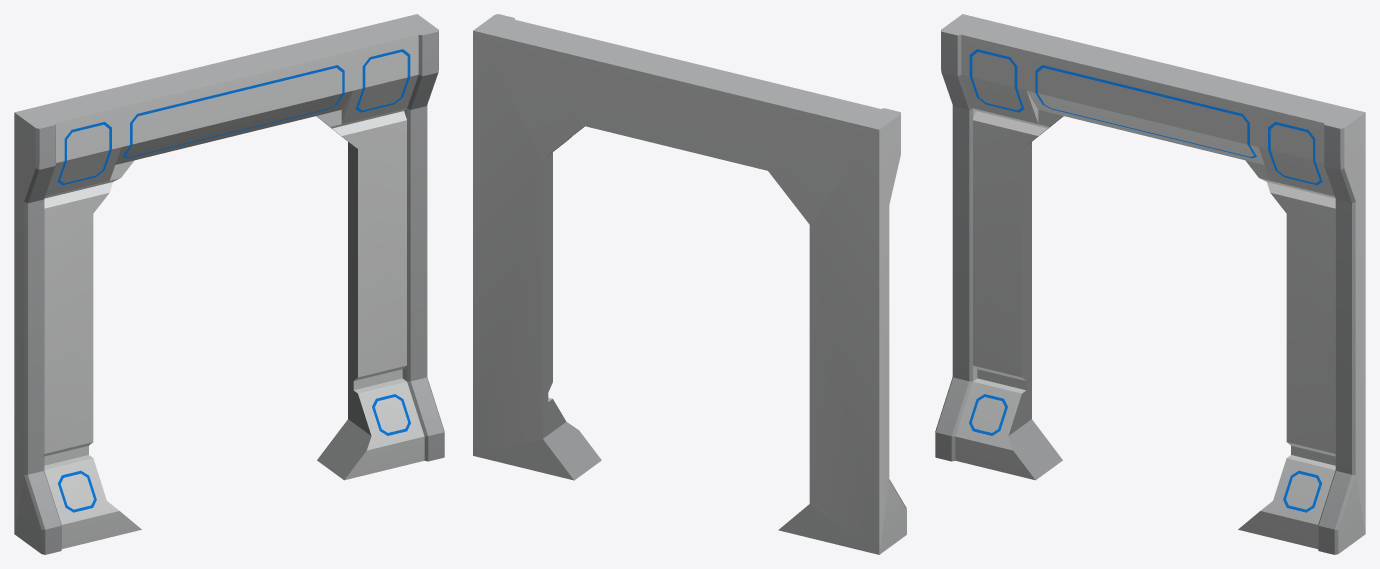
File: Wall_type_A_060.glb
3 renders of one model, left to right at view 1: azimuth 30°, elevation 25°; view 2: azimuth 150°, elevation 25°; view 3: azimuth 330°, elevation 25°, orthographic.
Visible parts, largest first — view 1: Wall_type_A_060; view 2: Wall_type_A_060; view 3: Wall_type_A_060.
Boxes of the visible parts, left/top/right/bottom form: Wall_type_A_060: left=14, top=14, right=444, bottom=554; Wall_type_A_060: left=473, top=14, right=906, bottom=554; Wall_type_A_060: left=935, top=14, right=1365, bottom=554.
Size of the model in its own units: 4 by 4 by 0.5.
2 materials, 2 textured.
